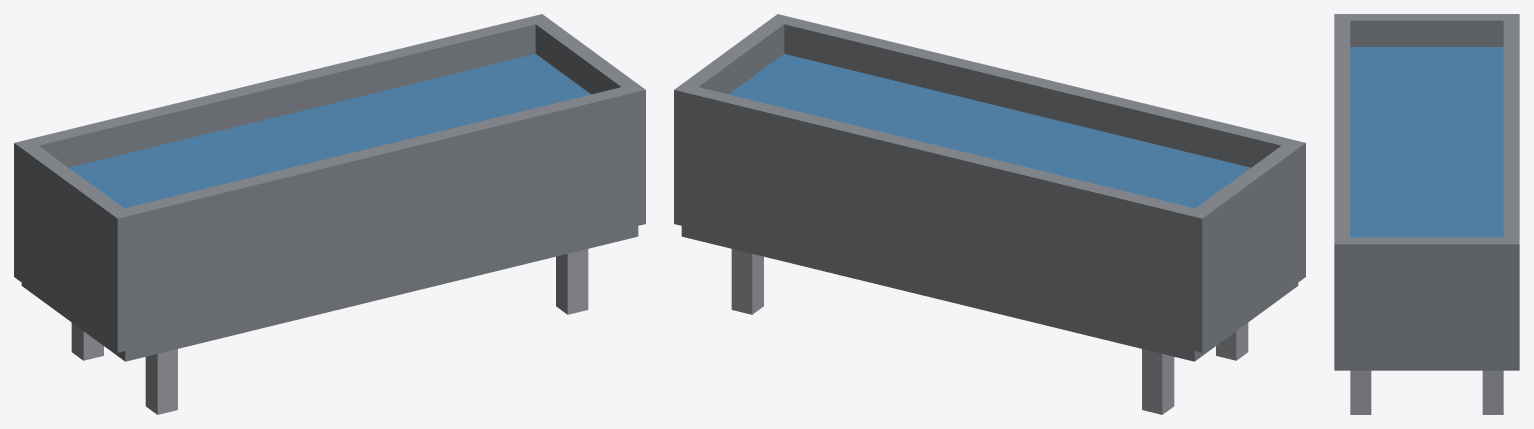
File: abrevadero.glb
3 views of the same model, side by side, from view 1: azimuth 30°, elevation 25°; view 2: azimuth 150°, elevation 25°; view 3: azimuth 270°, elevation 25° (orthographic). The views are drawn at different scales.
Visible parts, largest first — view 1: Abrevadero; view 2: Abrevadero; view 3: Abrevadero.
Part boxes in pixels (x1,y1,x2,y2): Abrevadero: (14,14,645,414); Abrevadero: (674,14,1305,414); Abrevadero: (1334,14,1519,414).
Bounding box in the file's own units: 2.06 × 0.8 × 0.7.
